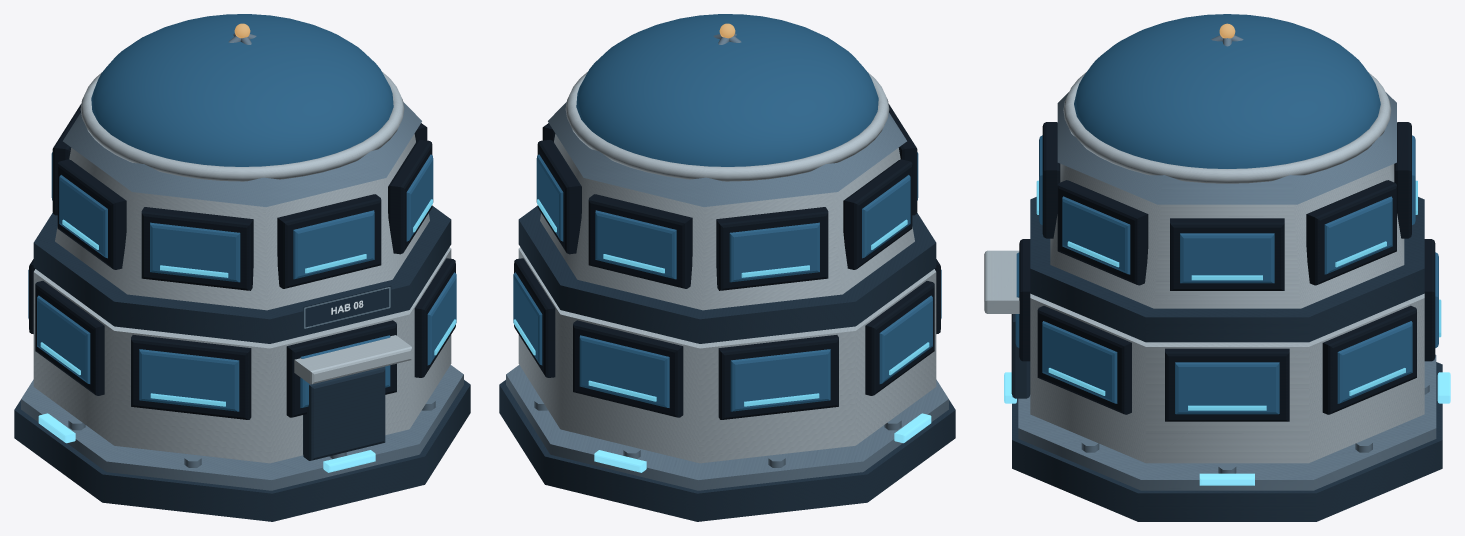
Rendered from habitat.glb.
The picture shows the model from 3 angles, left to right: view 1: azimuth 30°, elevation 25°; view 2: azimuth 150°, elevation 25°; view 3: azimuth 270°, elevation 25°; orthographic projection.
Parts seen in each view (by area): view 1: Blue optical glass, Ceramic titanium armor (×2), Graphite composite, Carbon machinery, Brushed titanium, Identification HAB 08, Coolant conduit, Status light; view 2: Blue optical glass, Ceramic titanium armor (×2), Graphite composite, Carbon machinery, Brushed titanium, Coolant conduit, Status light; view 3: Blue optical glass, Ceramic titanium armor (×2), Graphite composite, Carbon machinery, Brushed titanium, Coolant conduit, Status light.
Boxes of the visible parts, x1,y1,x2,y2 form: Blue optical glass: [28, 14, 456, 411]; Ceramic titanium armor (×2): [33, 72, 451, 463]; Graphite composite: [14, 206, 470, 521]; Carbon machinery: [29, 104, 455, 419]; Brushed titanium: [21, 33, 463, 490]; Identification HAB 08: [303, 285, 391, 329]; Coolant conduit: [40, 199, 456, 406]; Status light: [38, 413, 375, 472]; Blue optical glass: [513, 14, 941, 411]; Ceramic titanium armor (×2): [518, 72, 936, 463]; Graphite composite: [499, 206, 955, 521]; Carbon machinery: [514, 104, 940, 419]; Brushed titanium: [506, 33, 948, 490]; Coolant conduit: [513, 199, 929, 406]; Status light: [594, 413, 931, 472]; Blue optical glass: [1015, 14, 1438, 414]; Ceramic titanium armor (×2): [984, 72, 1424, 463]; Graphite composite: [1011, 197, 1442, 521]; Carbon machinery: [1019, 122, 1435, 421]; Brushed titanium: [1018, 35, 1436, 490]; Coolant conduit: [1036, 180, 1441, 410]; Status light: [1004, 372, 1450, 485].
Bounding box in the file's own units: 2.26 × 2.27 × 2.36.
9 materials, 5 textured.
